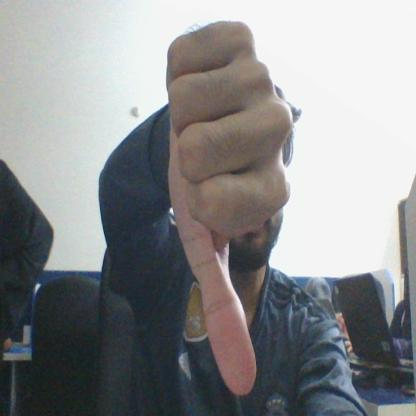thumbs-down: (168, 19, 288, 409)
